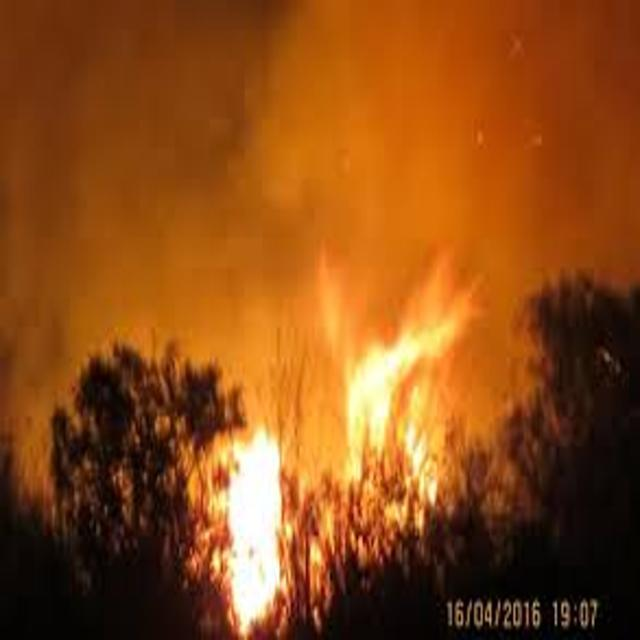Fire: (312, 245, 478, 528), (217, 427, 290, 640)
Smoke: (1, 2, 267, 374), (270, 0, 640, 244)
